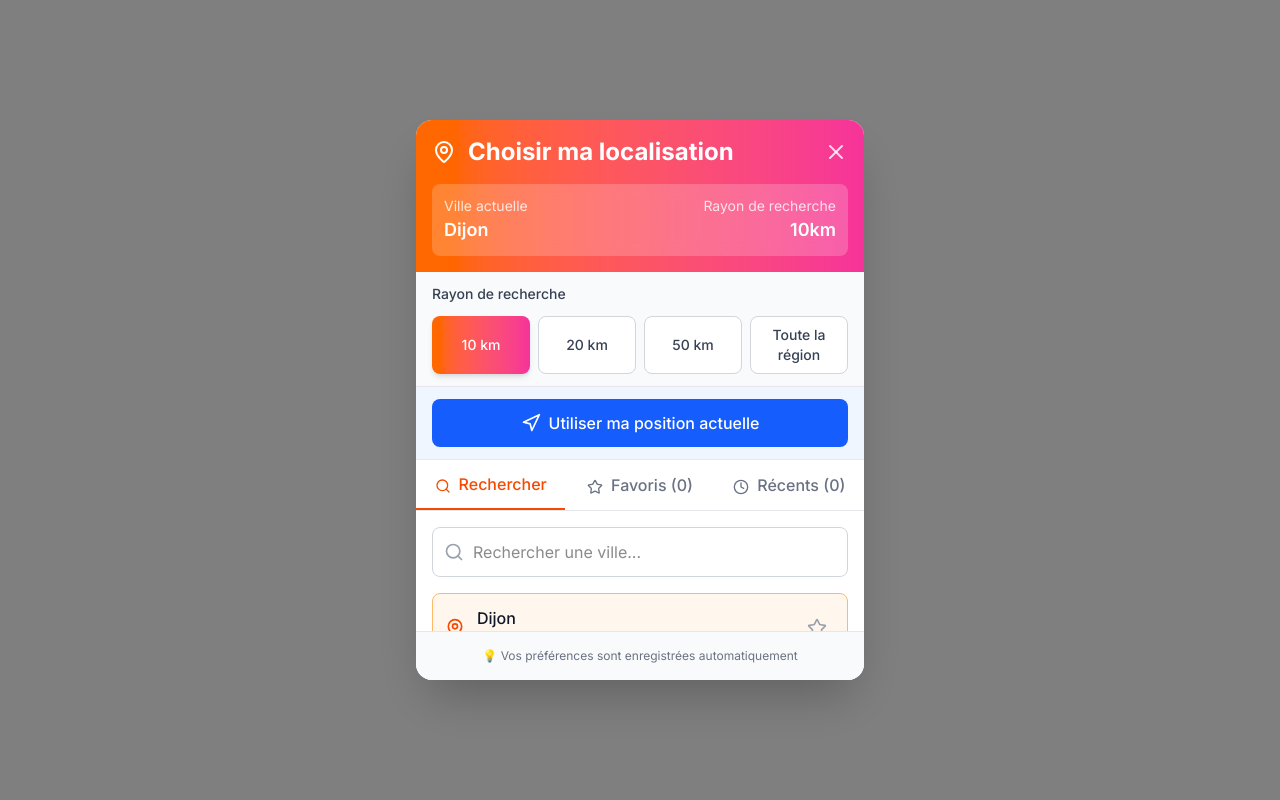
LocationSelector › devrait filtrer les villes lors de la recherche
The width and height of the screenshot is (1280, 800).
// Taper "Paris"
In the field with placeholder "Rechercher une ville...": (640, 552) left=432, top=527, right=848, bottom=577, type "Paris"
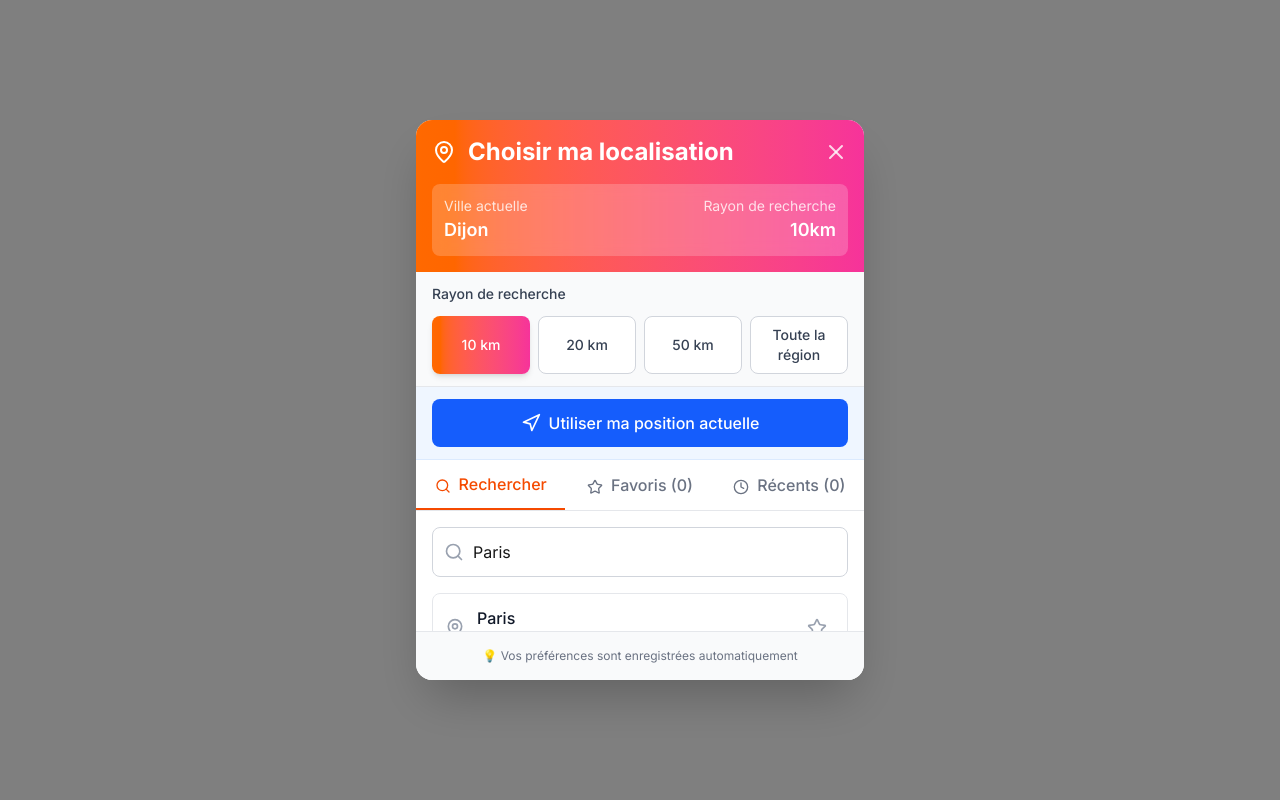
Now the text "Paris" is shown, box left=477, top=608, right=515, bottom=628
